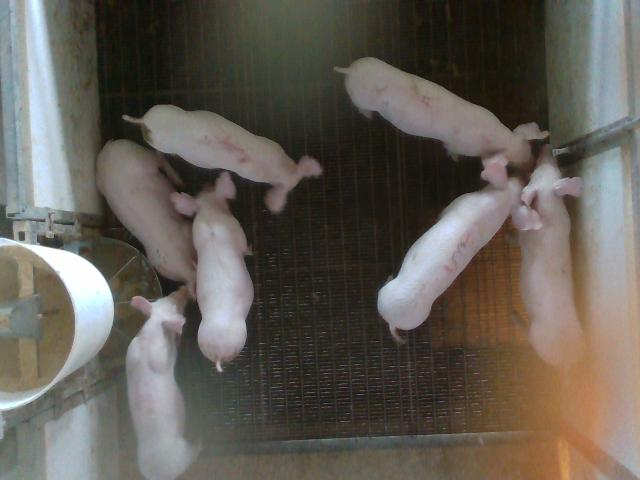pig-3: (378, 154, 541, 341)
pig-4: (126, 286, 200, 479)
pig-5: (122, 105, 322, 212)
